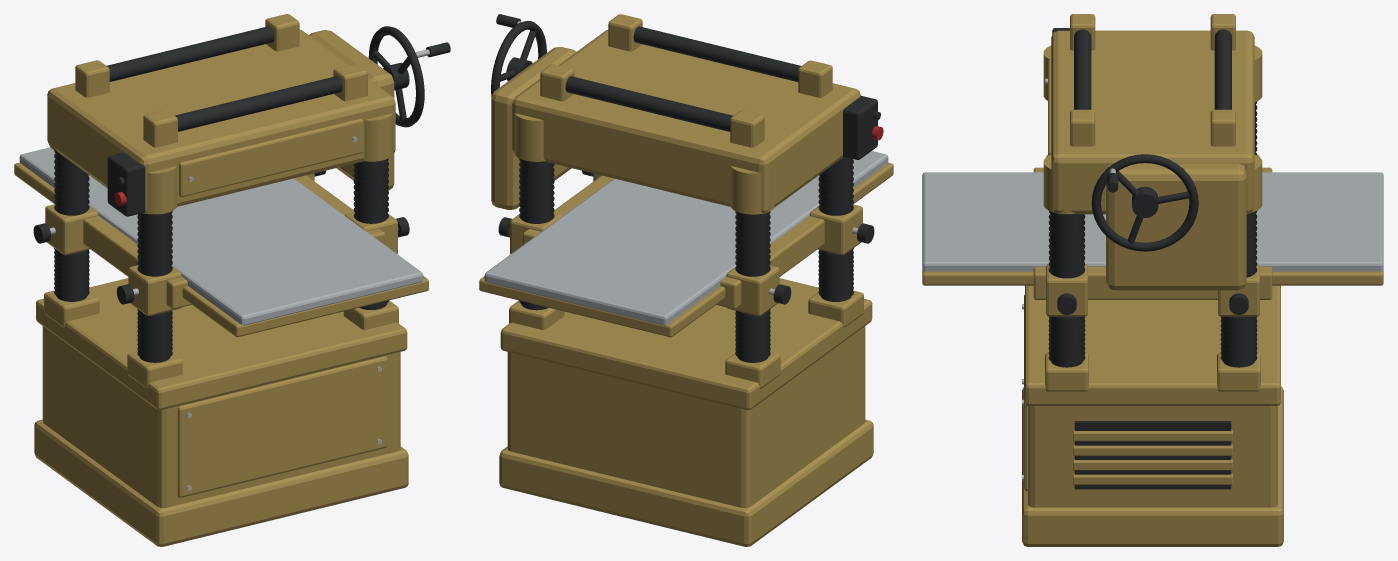
3 renders of one model, left to right at view 1: azimuth 30°, elevation 25°; view 2: azimuth 150°, elevation 25°; view 3: azimuth 270°, elevation 25°, orthographic. The views are drawn at different scales.
Visible parts, largest first — view 1: Wide overhead cutter housing, Continuous steel feed bed, Front cabinet access panel, Upper cabinet support deck, Closed lower machine cabinet, Integral floor plinth, Front head service fascia, Front extension support apron, Upper stock return roller 0.18, Upper stock return roller -0.18, Bed side support rail -1, Upper column bellows (-0.33, -0.22) (+21 smaller); view 2: Closed lower machine cabinet, Wide overhead cutter housing, Continuous steel feed bed, Upper cabinet support deck, Integral floor plinth, Right transmission housing, Rear extension support apron, Upper stock return roller 0.18, Upper stock return roller -0.18, Bed side support rail -1, Upper column bellows (-0.33, 0.22), Upper column bellows (0.33, 0.22) (+19 smaller); view 3: Continuous steel feed bed, Wide overhead cutter housing, Upper cabinet support deck, Right transmission housing, Closed lower machine cabinet, Integral floor plinth, Right cabinet vent backing, Height handwheel rim, Bed side support rail 1, Upper column bellows (0.33, -0.22), Lower column bellows (0.33, -0.22), Lower column bellows (0.33, 0.22) (+18 smaller).
Part boxes in pixels (left/top/right/bottom): Wide overhead cutter housing: left=47, top=29, right=395, bottom=213; Continuous steel feed bed: left=19, top=147, right=423, bottom=325; Front cabinet access panel: left=177, top=356, right=387, bottom=497; Upper cabinet support deck: left=36, top=278, right=407, bottom=410; Closed lower machine cabinet: left=42, top=326, right=400, bottom=507; Integral floor plinth: left=34, top=419, right=408, bottom=546; Front head service fascia: left=179, top=118, right=363, bottom=196; Front extension support apron: left=182, top=276, right=428, bottom=337; Upper stock return roller 0.18: left=106, top=26, right=274, bottom=81; Upper stock return roller -0.18: left=175, top=76, right=342, bottom=131; Bed side support rail -1: left=83, top=215, right=191, bottom=309; Upper column bellows (-0.33, -0.22): left=137, top=211, right=172, bottom=276; Closed lower machine cabinet: left=507, top=326, right=865, bottom=507; Wide overhead cutter housing: left=512, top=30, right=860, bottom=214; Continuous steel feed bed: left=484, top=151, right=888, bottom=325; Upper cabinet support deck: left=500, top=278, right=872, bottom=410; Integral floor plinth: left=499, top=419, right=873, bottom=546; Right transmission housing: left=491, top=47, right=576, bottom=209; Rear extension support apron: left=479, top=276, right=725, bottom=337; Upper stock return roller 0.18: left=565, top=76, right=733, bottom=131; Upper stock return roller -0.18: left=633, top=26, right=800, bottom=81; Bed side support rail -1: left=716, top=215, right=824, bottom=309; Upper column bellows (-0.33, 0.22): left=735, top=211, right=770, bottom=276; Upper column bellows (0.33, 0.22): left=519, top=158, right=554, bottom=223; Continuous steel feed bed: left=922, top=172, right=1383, bottom=271; Wide overhead cutter housing: left=1051, top=30, right=1254, bottom=214; Upper cabinet support deck: left=1025, top=285, right=1280, bottom=405; Right transmission housing: left=1106, top=163, right=1246, bottom=290; Closed lower machine cabinet: left=1028, top=406, right=1277, bottom=507; Integral floor plinth: left=1022, top=386, right=1283, bottom=546; Right cabinet vent backing: left=1074, top=421, right=1231, bottom=489; Height handwheel rim: left=1091, top=154, right=1198, bottom=251; Bed side support rail 1: left=1033, top=266, right=1272, bottom=299; Upper column bellows (0.33, -0.22): left=1048, top=211, right=1085, bottom=278; Lower column bellows (0.33, -0.22): left=1048, top=316, right=1085, bottom=367; Lower column bellows (0.33, 0.22): left=1220, top=316, right=1257, bottom=367.
Bounding box in the file's own units: 109 × 118 × 118.
